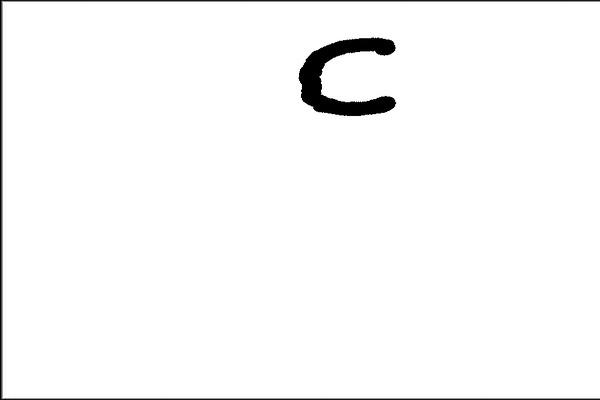C: (294, 29, 400, 122)
